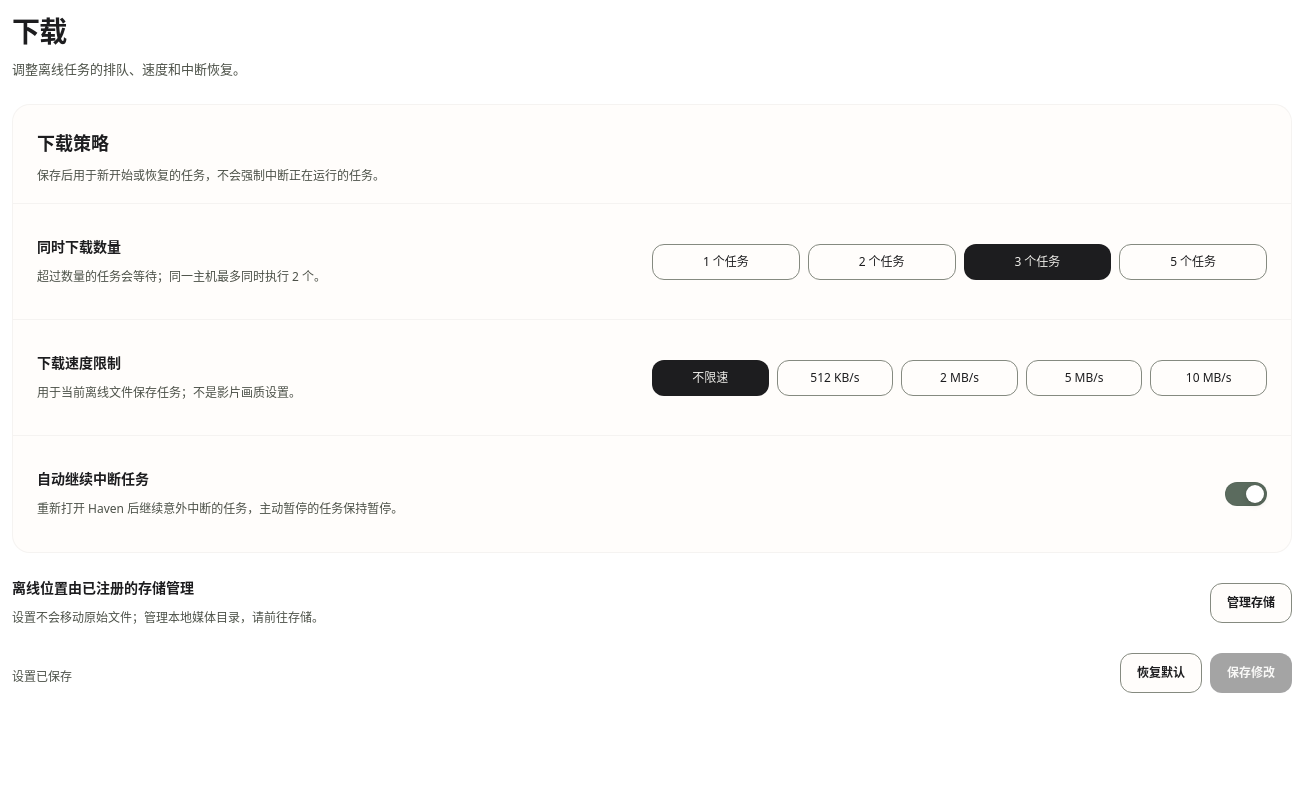
下载设置分区走真实的 Settings 表单 › 未保存的选择留在草稿里，「恢复默认」回到契约默认值且不写任何东西
Check: the text "设置已保存" is shown, box [12,666,72,688]
Click the button "10 MB/s" at [1209, 378], box [1150,360,1267,396]
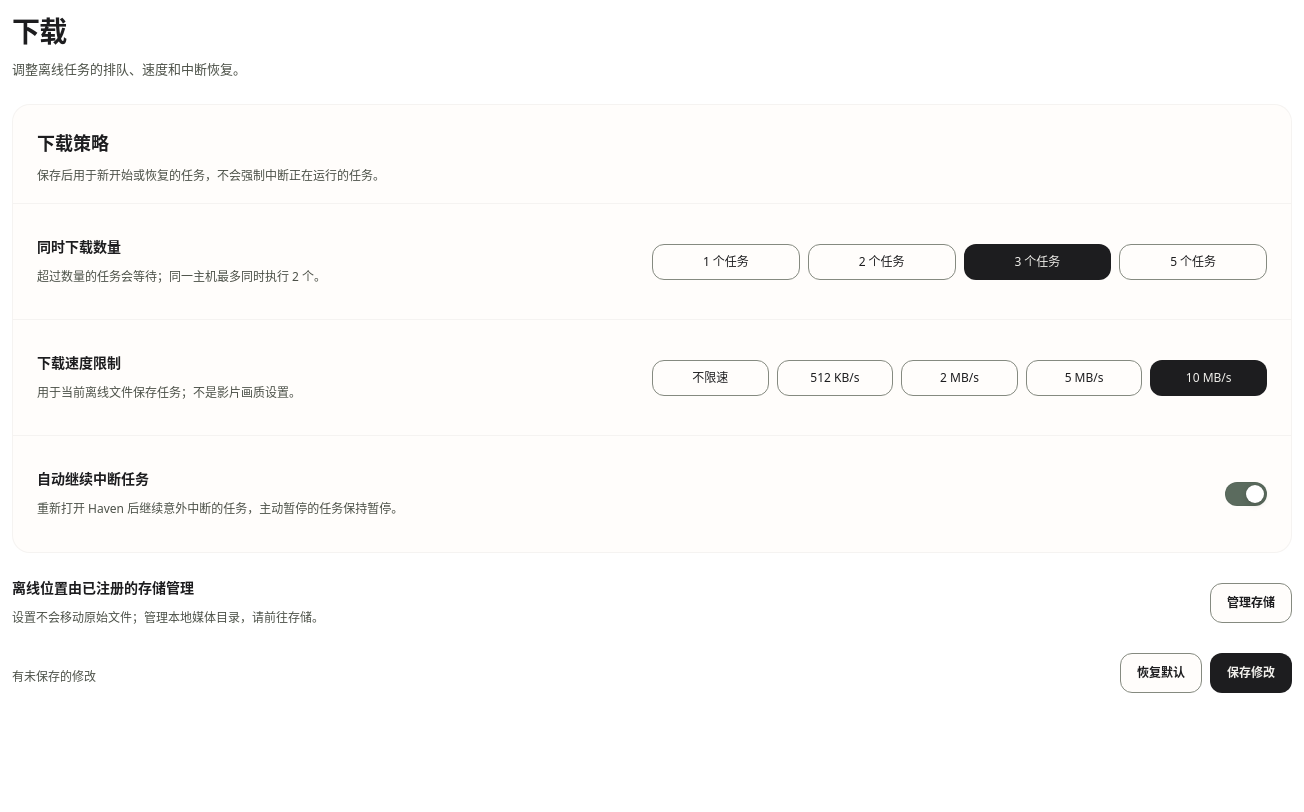
Click the switch named "自动继续中断任务" at [1246, 494], box [1225,482,1267,506]
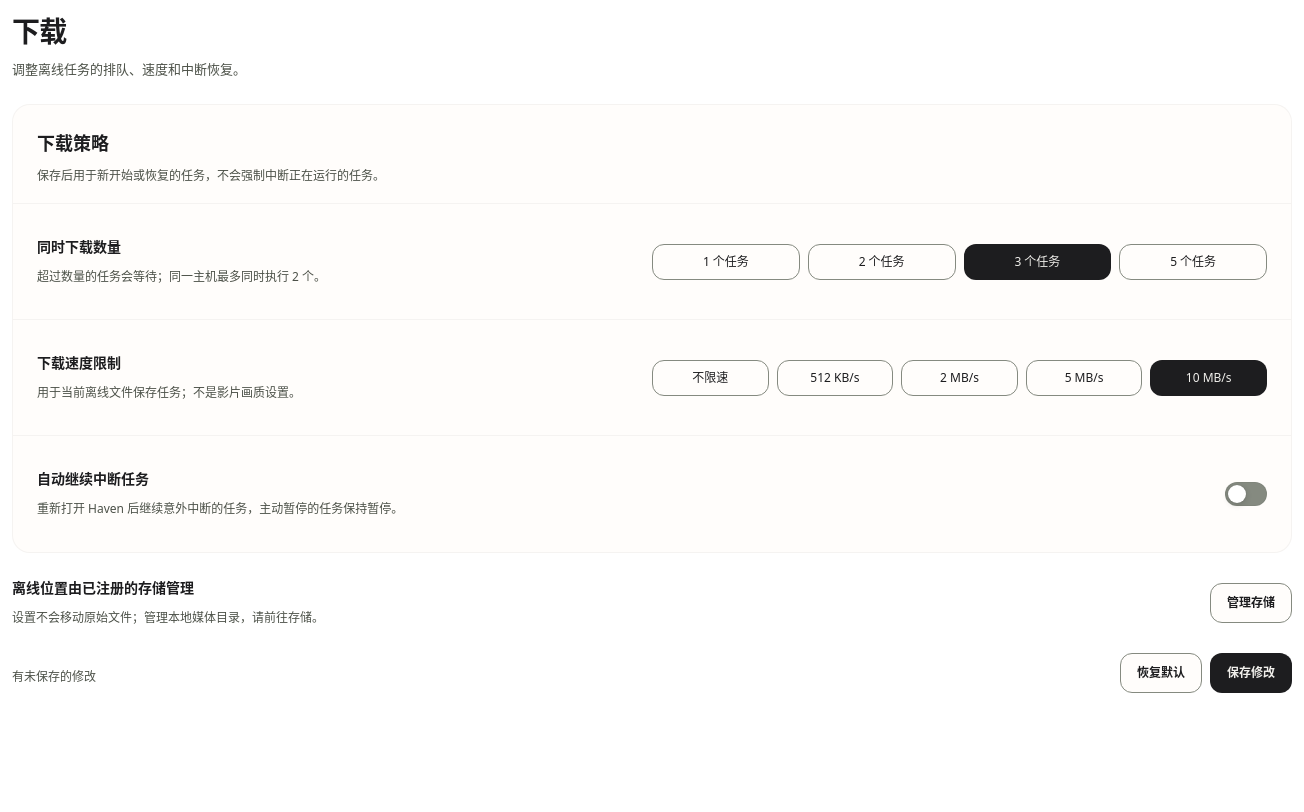
Check: the text "有未保存的修改" is shown, box [12,666,96,688]
Click the button "恢复默认" at [1161, 673], box [1120,653,1202,693]
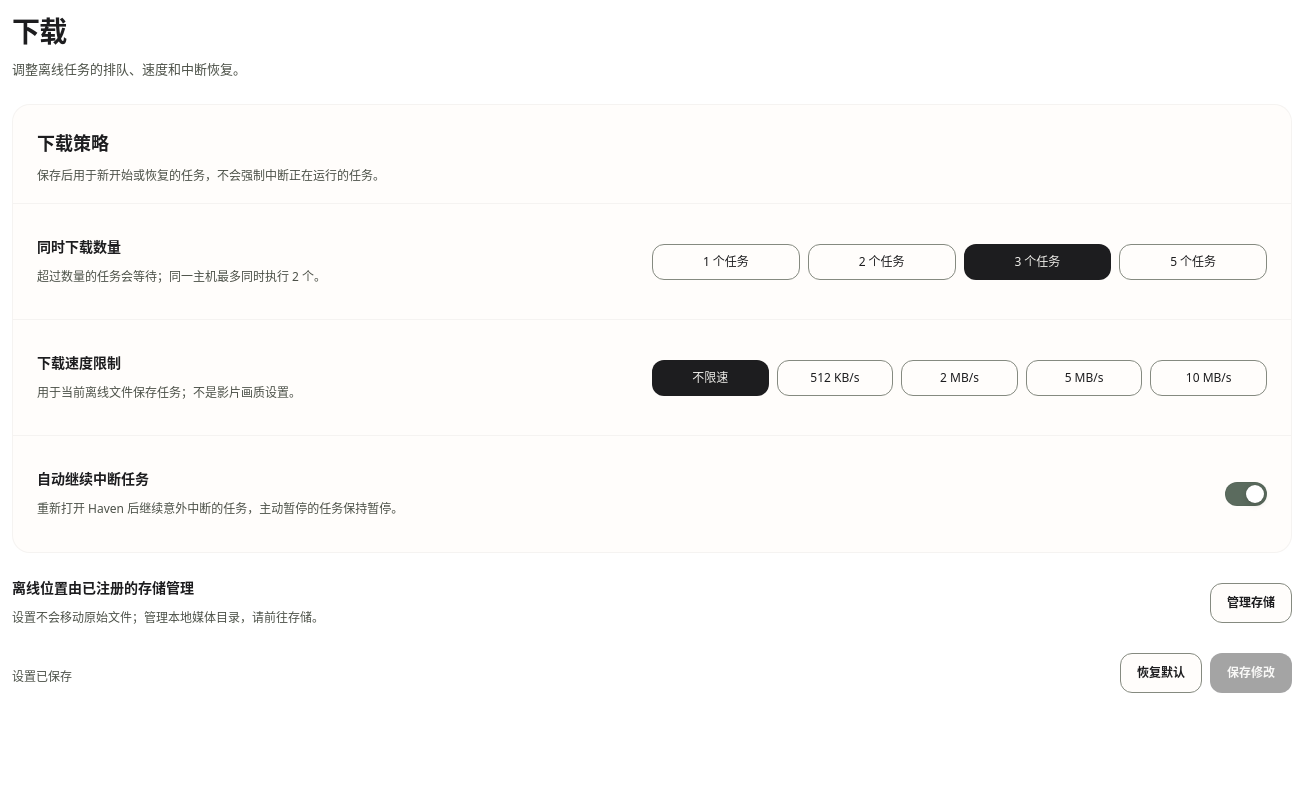
Check: the text "设置已保存" is shown, box [12,666,72,688]
